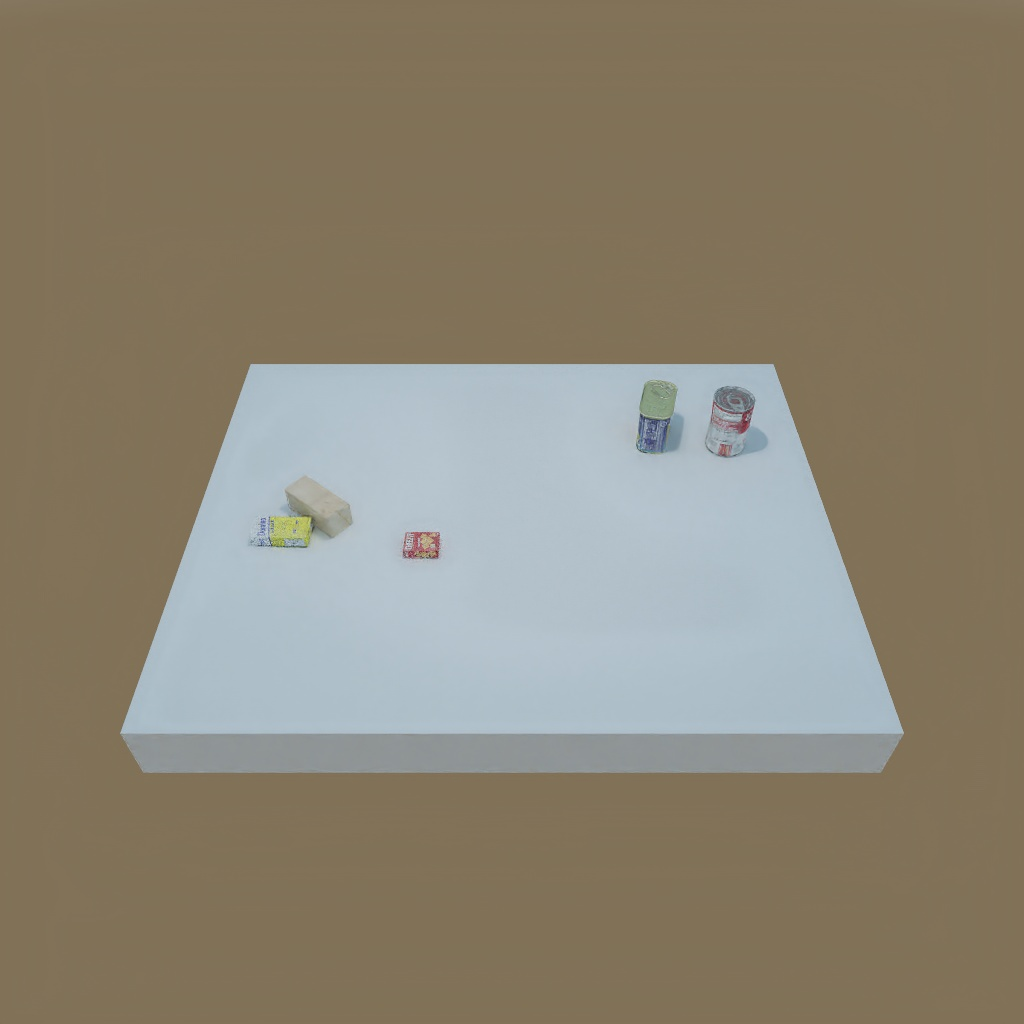potted_meat_can: (632, 379, 679, 452)
tomato_soup_can: (705, 383, 756, 459)
wood_block: (281, 477, 351, 542)
